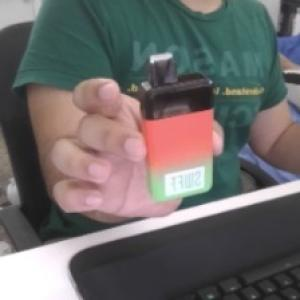Swift-E-Ciggirate: (138, 49, 217, 203)
